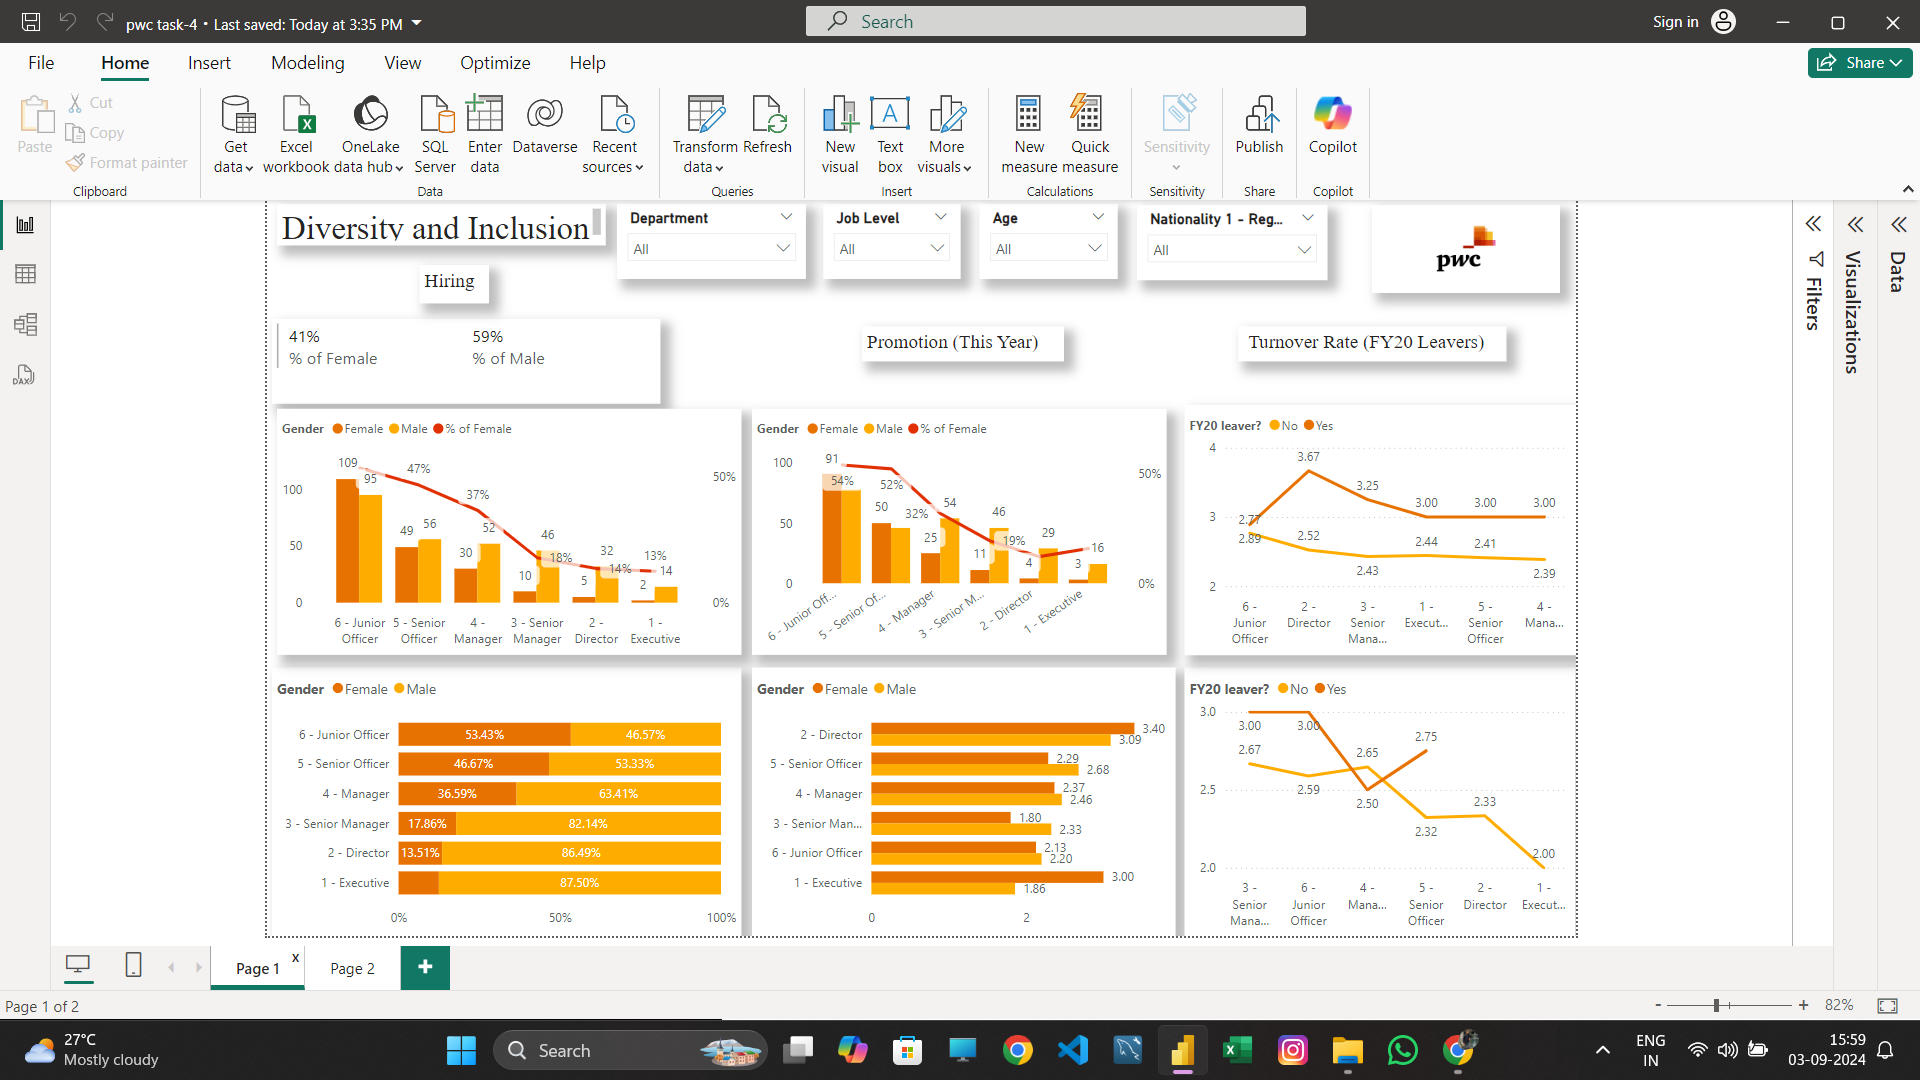

The dashboard page shown, as its layout file describes it:
{"tool":"powerbi","page":{"name":"Page 1","canvas":[1280,720],"ordinal":0},"visuals":[{"type":"textbox","box":[9.9,3.7,321.6,41],"z":0},{"type":"slicer","fields":{"Values":["Pharma Group AG.Last Department in FY20"]},"box":[342.7,3.7,185,73.3],"z":1000},{"type":"slicer","fields":{"Values":["Pharma Group AG.Region group: nationality 1"]},"box":[543.9,3.7,134.1,73.3],"z":2000},{"type":"slicer","fields":{"Values":["Pharma Group AG.Age group"]},"box":[696.6,3.7,135.4,73.3],"z":3000},{"type":"slicer","fields":{"Values":["Pharma Group AG.Job Level after FY20 promotions"]},"box":[850.6,5,186.3,73.3],"z":4000},{"type":"hundredPercentStackedBarChart","fields":{"Category":["Pharma Group AG.Job Level after FY20 promotions"],"Y":["CountNonNull(Pharma Group AG.Employee ID)"],"Series":["Pharma Group AG.Gender"]},"box":[5,457,459.5,263.3],"z":5000},{"type":"multiRowCard","fields":{"Values":["Pharma Group AG.% of Female","Pharma Group AG.% of Male"]},"box":[4.9,116.2,380.3,83.2],"z":6000},{"type":"lineClusteredColumnComboChart","fields":{"Category":["Pharma Group AG.Job Level after FY20 promotions"],"Y":["CountNonNull(Pharma Group AG.Employee ID)"],"Series":["Pharma Group AG.Gender"],"Y2":["Pharma Group AG.% of Female"]},"box":[9.9,203.6,454.5,240.9],"z":7000},{"type":"lineClusteredColumnComboChart","fields":{"Y":["CountNonNull(Pharma Group AG.Employee ID)"],"Series":["Pharma Group AG.Gender"],"Y2":["Pharma Group AG.% of Female"],"Category":["Pharma Group AG.Job Level after FY21 promotions"]},"box":[474.5,204.2,406,240.9],"z":8000},{"type":"clusteredBarChart","fields":{"Category":["Pharma Group AG.Job Level after FY20 promotions"],"Y":["Avg(Pharma Group AG.Time in Job Level @01.07.2020)"],"Series":["Pharma Group AG.Gender"]},"box":[474.4,457,414.7,263.3],"z":9000},{"type":"lineChart","fields":{"Category":["Pharma Group AG.Job Level after FY20 promotions"],"Y":["Avg(Pharma Group AG.FY19 Performance Rating)"],"Series":["Pharma Group AG.FY20 leaver?"]},"box":[897.6,457.3,382.7,262.9],"z":10000},{"type":"lineChart","fields":{"Category":["Pharma Group AG.Job Level after FY20 promotions"],"Y":["Avg(Pharma Group AG.FY19 Performance Rating)"],"Series":["Pharma Group AG.FY20 leaver?"]},"box":[897.2,200,383.3,244.4],"z":11000},{"type":"textbox","box":[149,63.3,68.3,37.3],"z":12000},{"type":"textbox","box":[582.4,122.9,197.4,34.8],"z":13000},{"type":"textbox","box":[949.9,122.9,262,34.8],"z":14000},{"type":"image","box":[1081.6,5,183.8,85.7],"z":14001}]}

Visuals, with their boxes on the page's 1280x720 design canvas (x1, y1, x2, y2). These are canvas units, not pixel positions in the 1920x1080 screenshot, which may show the page scaled, cropped or inside an application window:
textbox: Rect(10, 4, 332, 45)
slicer - Pharma Group AG.Last Department in FY20: Rect(343, 4, 528, 77)
slicer - Pharma Group AG.Region group: nationality 1: Rect(544, 4, 678, 77)
slicer - Pharma Group AG.Age group: Rect(697, 4, 832, 77)
slicer - Pharma Group AG.Job Level after FY20 promotions: Rect(851, 5, 1037, 78)
hundredPercentStackedBarChart - Pharma Group AG.Job Level after FY20 promotions x CountNonNull(Pharma Group AG.Employee ID): Rect(5, 457, 464, 720)
multiRowCard - Pharma Group AG.% of Female x Pharma Group AG.% of Male: Rect(5, 116, 385, 199)
lineClusteredColumnComboChart - Pharma Group AG.Job Level after FY20 promotions x CountNonNull(Pharma Group AG.Employee ID): Rect(10, 204, 464, 444)
lineClusteredColumnComboChart - CountNonNull(Pharma Group AG.Employee ID) x Pharma Group AG.Gender: Rect(474, 204, 880, 445)
clusteredBarChart - Pharma Group AG.Job Level after FY20 promotions x Avg(Pharma Group AG.Time in Job Level @01.07.2020): Rect(474, 457, 889, 720)
lineChart - Pharma Group AG.Job Level after FY20 promotions x Avg(Pharma Group AG.FY19 Performance Rating): Rect(898, 457, 1280, 720)
lineChart - Pharma Group AG.Job Level after FY20 promotions x Avg(Pharma Group AG.FY19 Performance Rating): Rect(897, 200, 1280, 444)
textbox: Rect(149, 63, 217, 101)
textbox: Rect(582, 123, 780, 158)
textbox: Rect(950, 123, 1212, 158)
image: Rect(1082, 5, 1265, 91)
